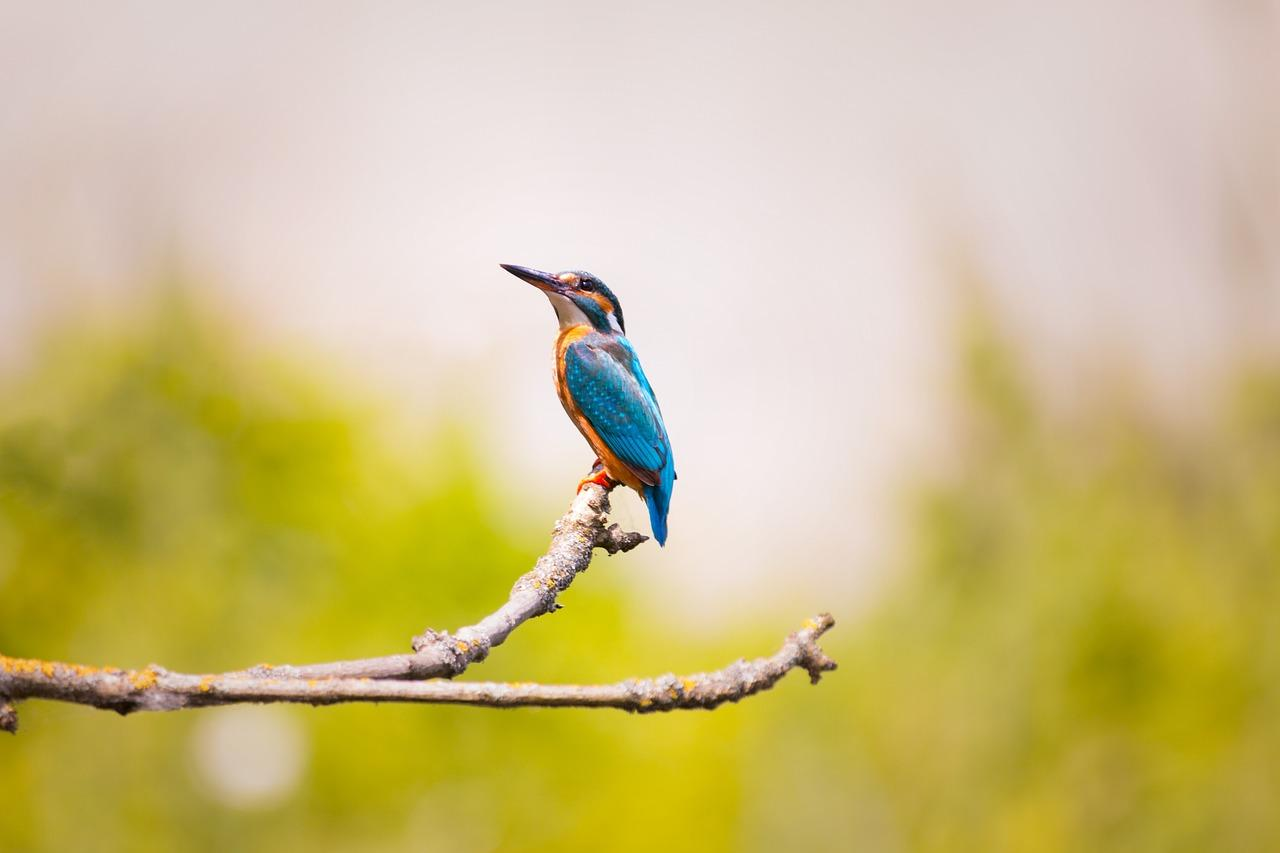bird: (502, 265, 675, 545)
